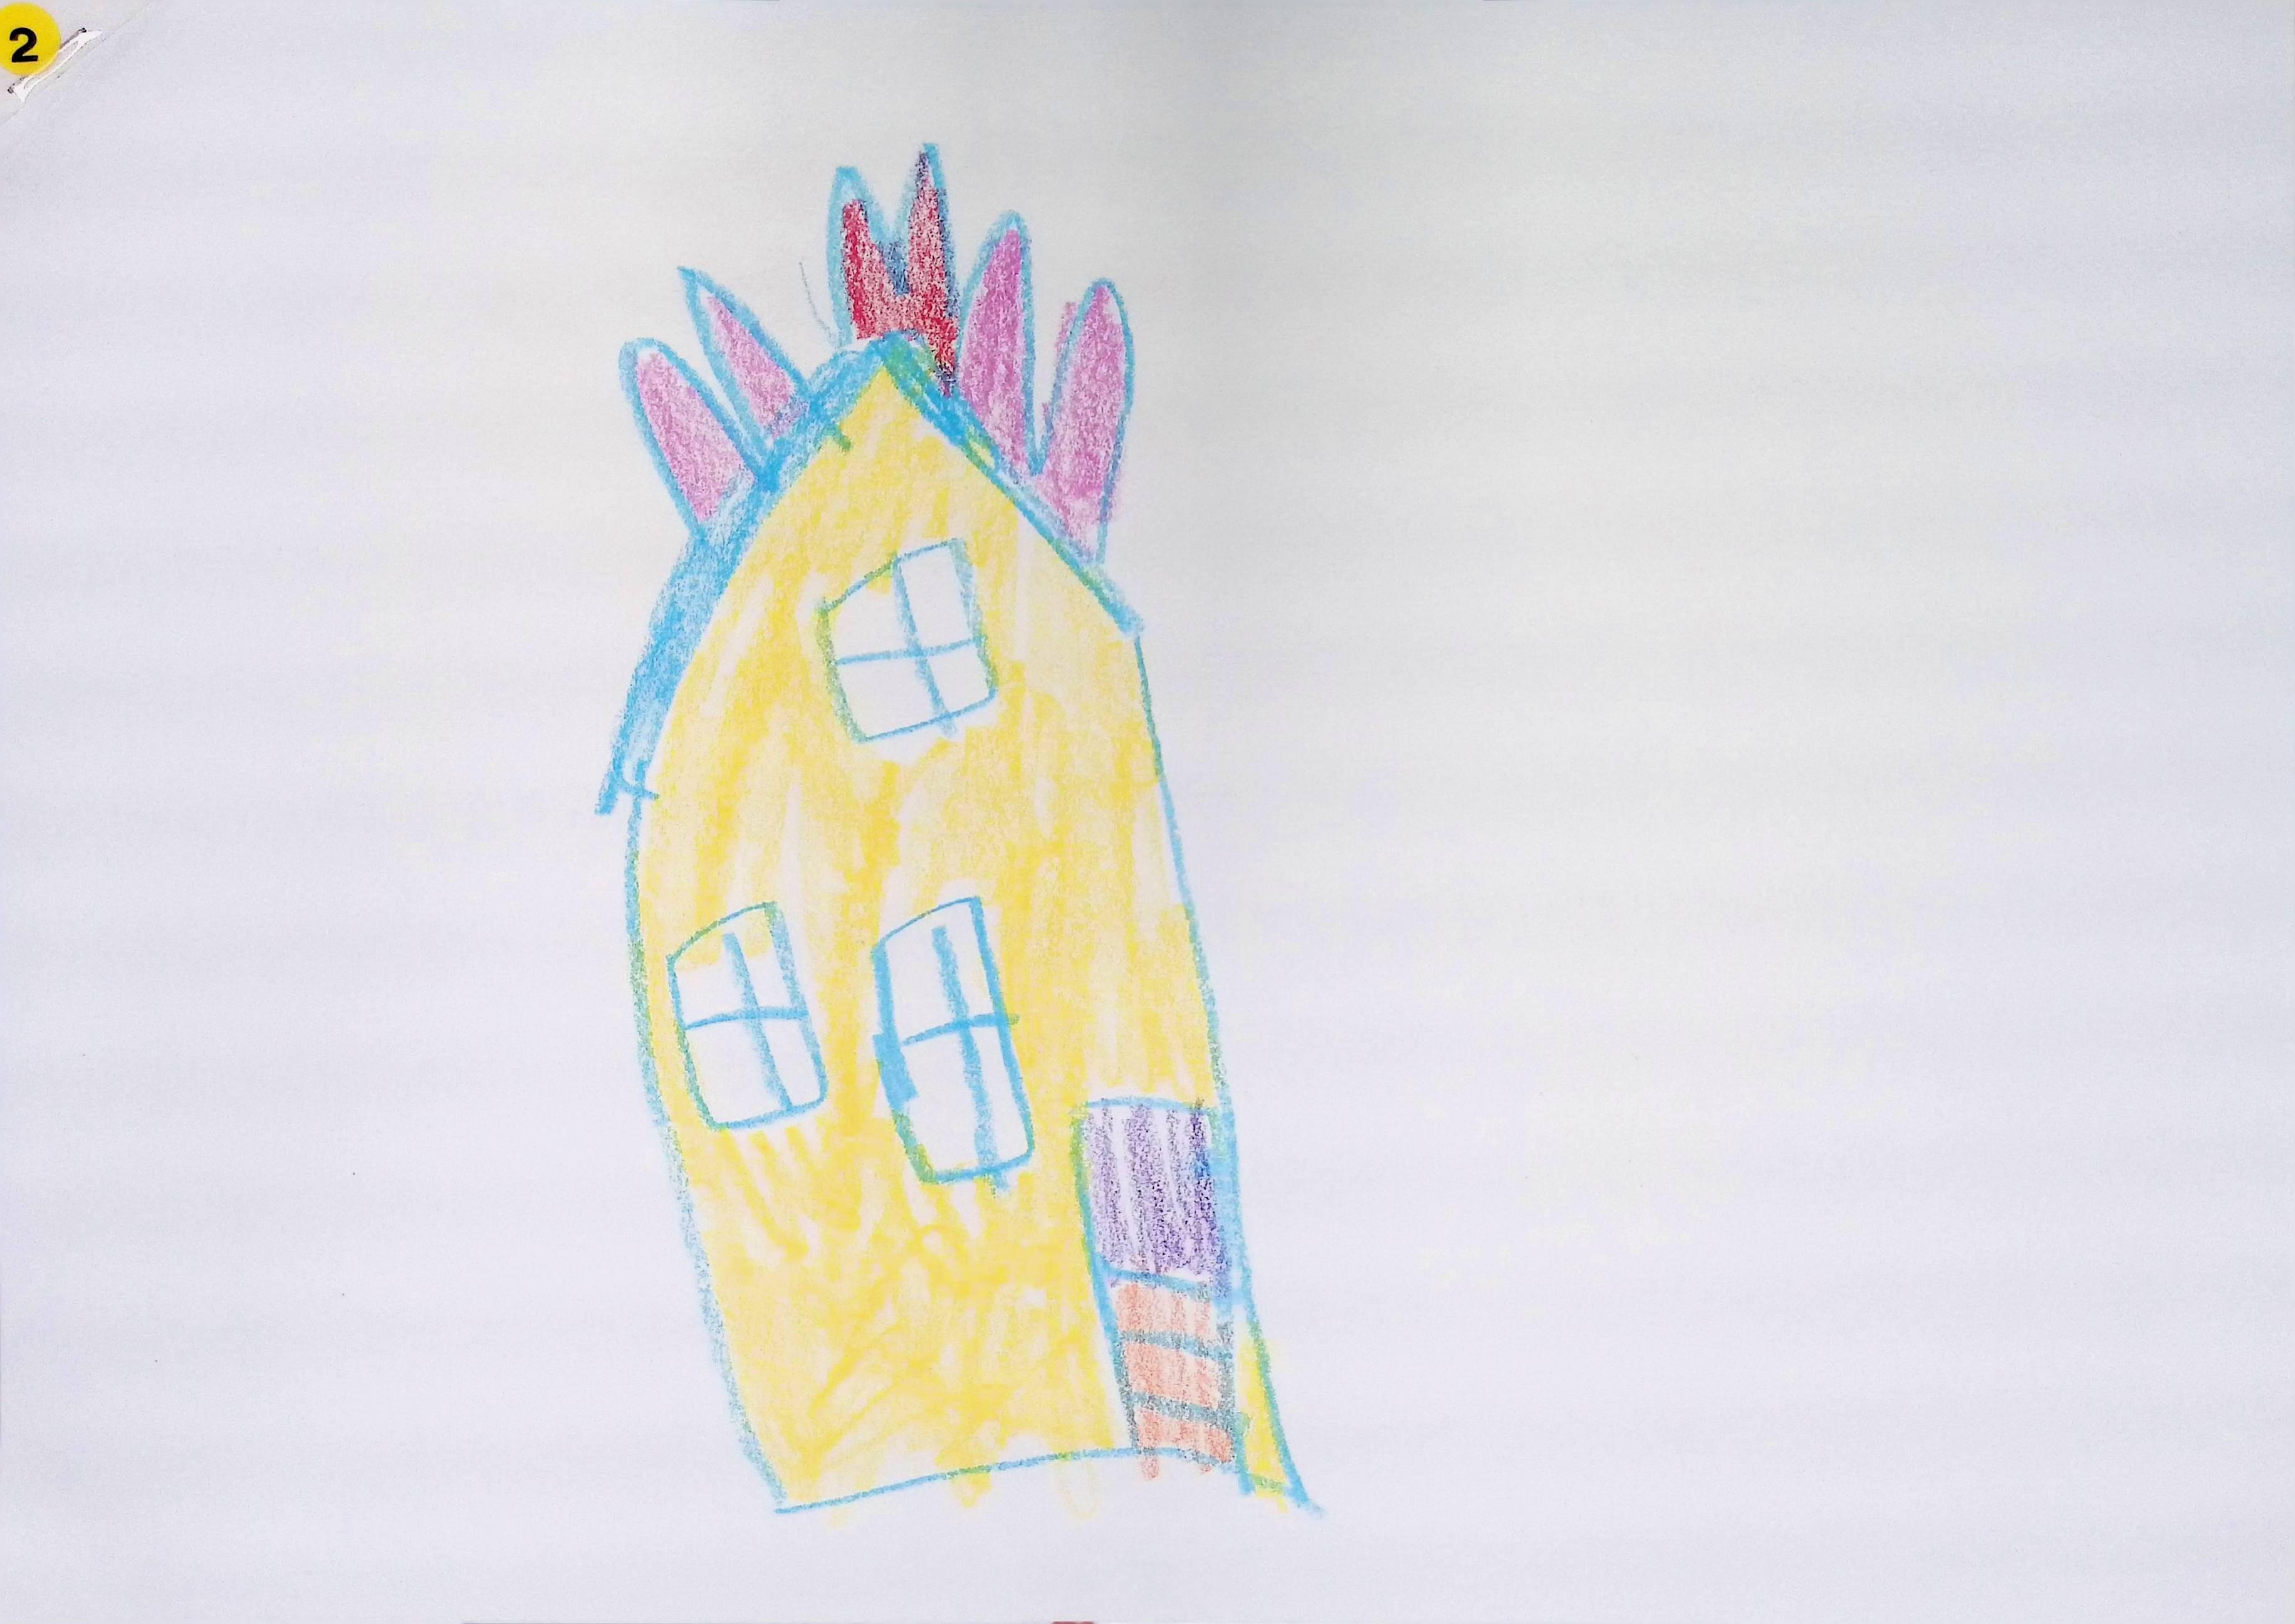door: (1081, 1100, 1241, 1469)
house: (599, 149, 1306, 1510)
roof: (590, 320, 1156, 812)
wall: (627, 397, 1311, 1508)
window: (873, 896, 1032, 1183), (666, 903, 824, 1128), (826, 538, 995, 740)
